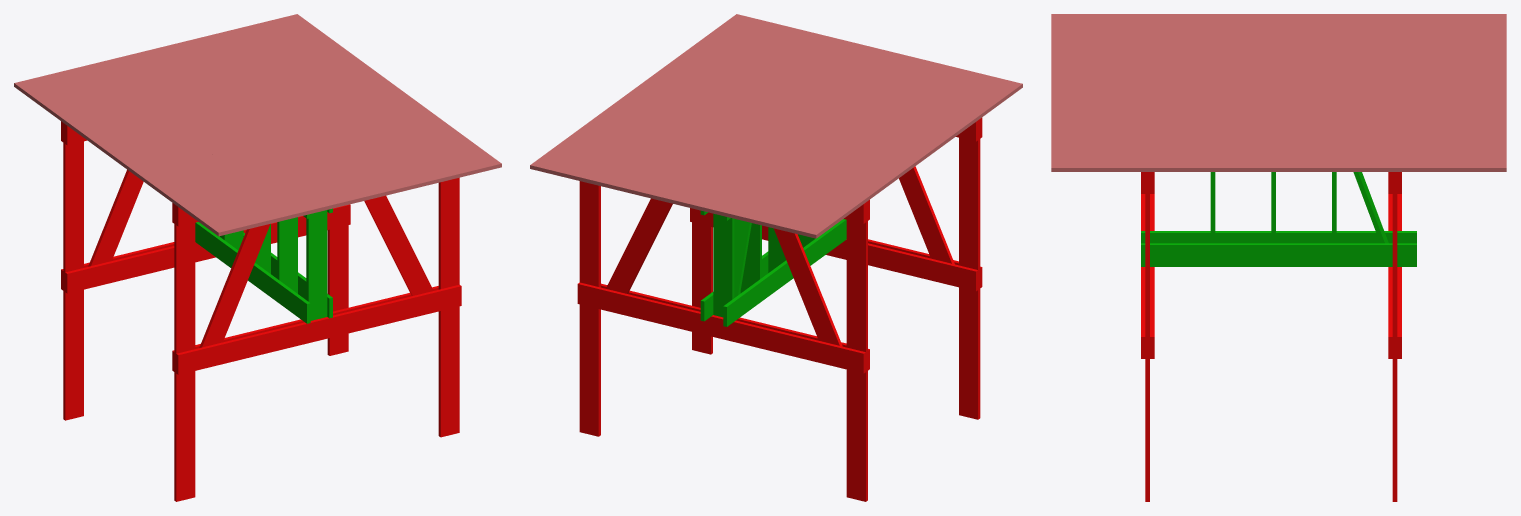
File: result.glb
3 renders of one model, left to right at view 1: azimuth 30°, elevation 25°; view 2: azimuth 150°, elevation 25°; view 3: azimuth 270°, elevation 25°, orthographic. The views are drawn at different scales.
Visible parts, largest first — view 1: 412ba23f-97de-42f0-9737-8e2f80a8c3b9__sideH, 40ae808c-2c03-4bc9-a8d6-72e78df71895__sideV, d8dbc933-af87-496e-a79d-4df4f563575a__undefined, fe8adc27-a267-4ead-96a9-30d5fecc0a24__sideV, 6f6bc628-018c-4c5d-bd55-94171e16b350__Box, 7e0fc147-e222-4f3d-acbf-ec03eb6a6078__undefined, e281e34f-e90e-4976-8949-8def8f0eae46__undefined, 3f3209d5-9283-40f2-8c8c-d94d3d14c270__undefined, 8bea4d79-0828-493a-b416-44f07d1a10cd__undefined, cdbac159-9dec-45e6-aedd-e4a0ad601e90__undefined, 343f47f4-aa77-460f-9a06-4438c184ad79__undefined, 86719ac9-d1b8-471d-ac16-365e51ff3999__undefined (+16 smaller); view 2: 4f87ccab-005c-4089-8e2b-7f37b0e84357__undefined, 40ae808c-2c03-4bc9-a8d6-72e78df71895__sideV, d8dbc933-af87-496e-a79d-4df4f563575a__undefined, 06c47a8d-5956-4993-987c-50719906f5cc__undefined, 6f6bc628-018c-4c5d-bd55-94171e16b350__Box, 86719ac9-d1b8-471d-ac16-365e51ff3999__undefined, 1c174771-122d-4afe-b2ff-4c226745a452__undefined, 7e0fc147-e222-4f3d-acbf-ec03eb6a6078__undefined, 3f3209d5-9283-40f2-8c8c-d94d3d14c270__undefined, 5cfa0841-bb8a-47de-b6c2-177e572cbe43__undefined, 2aa40593-c094-4f7a-a9d6-4898295b6e56__undefined, 132ed31d-91a1-4913-bc24-3b8b61c00851__undefined (+17 smaller); view 3: 2aa40593-c094-4f7a-a9d6-4898295b6e56__undefined, 805b84f8-9b7f-47a9-880e-f9d7ff3afd32__strutH, 6f6bc628-018c-4c5d-bd55-94171e16b350__Box, 7e0fc147-e222-4f3d-acbf-ec03eb6a6078__undefined, e281e34f-e90e-4976-8949-8def8f0eae46__undefined, eae30732-6bdb-4a09-bfa2-09599ad4d5f6__undefined, 343f47f4-aa77-460f-9a06-4438c184ad79__undefined, 6c72750b-5fff-4e63-9255-fd3c72c83d31__undefined, 86719ac9-d1b8-471d-ac16-365e51ff3999__undefined, f3a23d94-747f-4fd0-af98-4d5e77f4091a__undefined, 3f3209d5-9283-40f2-8c8c-d94d3d14c270__undefined, 5cfa0841-bb8a-47de-b6c2-177e572cbe43__undefined (+12 smaller).
Boxes of the visible parts, box(x1,y1,x2,y2) form: 412ba23f-97de-42f0-9737-8e2f80a8c3b9__sideH: box(176, 284, 461, 374); 40ae808c-2c03-4bc9-a8d6-72e78df71895__sideV: box(174, 204, 195, 501); d8dbc933-af87-496e-a79d-4df4f563575a__undefined: box(63, 123, 83, 420); fe8adc27-a267-4ead-96a9-30d5fecc0a24__sideV: box(438, 177, 459, 437); 6f6bc628-018c-4c5d-bd55-94171e16b350__Box: box(14, 78, 237, 236); 7e0fc147-e222-4f3d-acbf-ec03eb6a6078__undefined: box(33, 74, 256, 231); e281e34f-e90e-4976-8949-8def8f0eae46__undefined: box(52, 69, 275, 226); 3f3209d5-9283-40f2-8c8c-d94d3d14c270__undefined: box(165, 41, 388, 199); 8bea4d79-0828-493a-b416-44f07d1a10cd__undefined: box(203, 32, 426, 190); cdbac159-9dec-45e6-aedd-e4a0ad601e90__undefined: box(222, 28, 445, 185); 343f47f4-aa77-460f-9a06-4438c184ad79__undefined: box(90, 60, 312, 217); 86719ac9-d1b8-471d-ac16-365e51ff3999__undefined: box(127, 51, 350, 208); 4f87ccab-005c-4089-8e2b-7f37b0e84357__undefined: box(577, 282, 865, 373); 40ae808c-2c03-4bc9-a8d6-72e78df71895__sideV: box(959, 119, 980, 419); d8dbc933-af87-496e-a79d-4df4f563575a__undefined: box(846, 201, 867, 501); 06c47a8d-5956-4993-987c-50719906f5cc__undefined: box(579, 181, 600, 436); 6f6bc628-018c-4c5d-bd55-94171e16b350__Box: box(797, 79, 1022, 238); 86719ac9-d1b8-471d-ac16-365e51ff3999__undefined: box(682, 51, 907, 210); 1c174771-122d-4afe-b2ff-4c226745a452__undefined: box(568, 23, 793, 182); 7e0fc147-e222-4f3d-acbf-ec03eb6a6078__undefined: box(778, 74, 1003, 233); 3f3209d5-9283-40f2-8c8c-d94d3d14c270__undefined: box(644, 42, 869, 201); 5cfa0841-bb8a-47de-b6c2-177e572cbe43__undefined: box(625, 37, 850, 196); 2aa40593-c094-4f7a-a9d6-4898295b6e56__undefined: box(530, 14, 755, 173); 132ed31d-91a1-4913-bc24-3b8b61c00851__undefined: box(549, 19, 774, 177); 2aa40593-c094-4f7a-a9d6-4898295b6e56__undefined: box(1051, 157, 1506, 171); 805b84f8-9b7f-47a9-880e-f9d7ff3afd32__strutH: box(1141, 243, 1416, 266); 6f6bc628-018c-4c5d-bd55-94171e16b350__Box: box(1051, 14, 1506, 24); 7e0fc147-e222-4f3d-acbf-ec03eb6a6078__undefined: box(1051, 24, 1506, 34); e281e34f-e90e-4976-8949-8def8f0eae46__undefined: box(1051, 34, 1506, 44); eae30732-6bdb-4a09-bfa2-09599ad4d5f6__undefined: box(1051, 44, 1506, 54); 343f47f4-aa77-460f-9a06-4438c184ad79__undefined: box(1051, 55, 1506, 65); 6c72750b-5fff-4e63-9255-fd3c72c83d31__undefined: box(1051, 65, 1506, 75); 86719ac9-d1b8-471d-ac16-365e51ff3999__undefined: box(1051, 75, 1506, 85); f3a23d94-747f-4fd0-af98-4d5e77f4091a__undefined: box(1051, 85, 1506, 95); 3f3209d5-9283-40f2-8c8c-d94d3d14c270__undefined: box(1051, 96, 1506, 106); 5cfa0841-bb8a-47de-b6c2-177e572cbe43__undefined: box(1051, 106, 1506, 116).
Size of the model in its own units: 1200 by 1215 by 1500.
